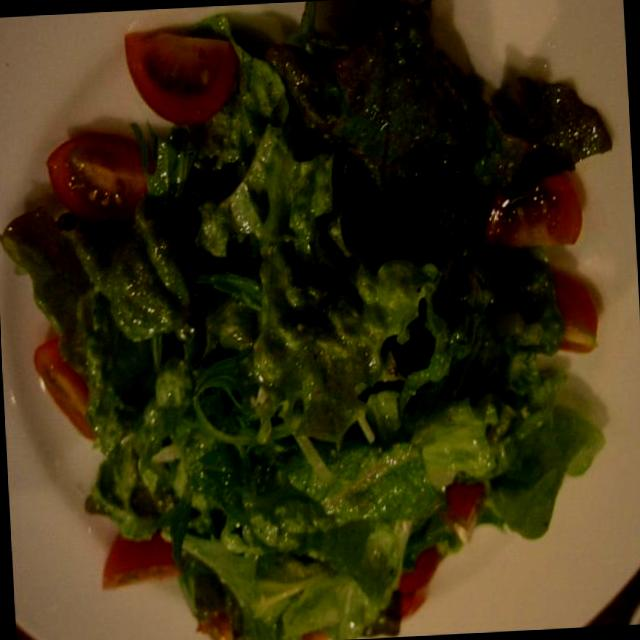Green Salad: (61, 42, 603, 640)
